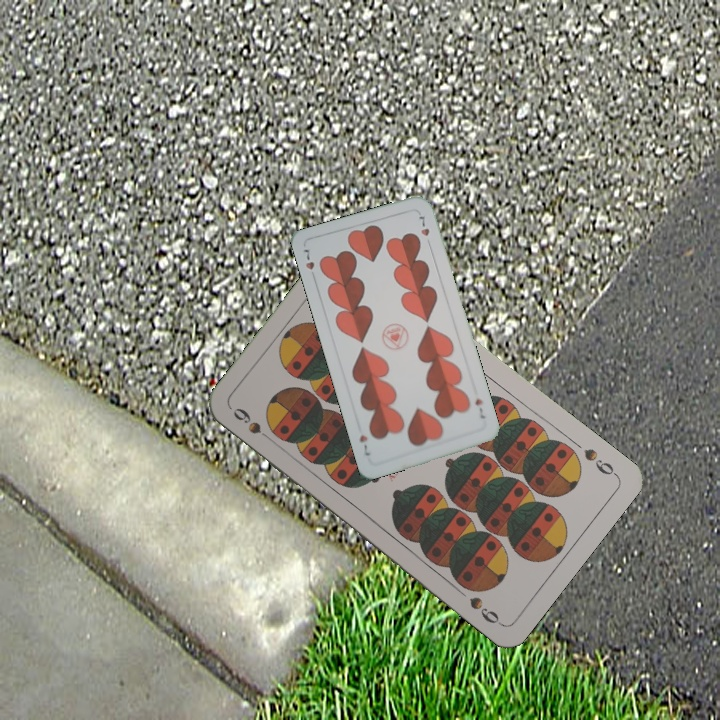H7: (299, 245, 318, 283), (471, 395, 488, 421)
S9: (229, 403, 278, 446), (579, 444, 620, 479)
